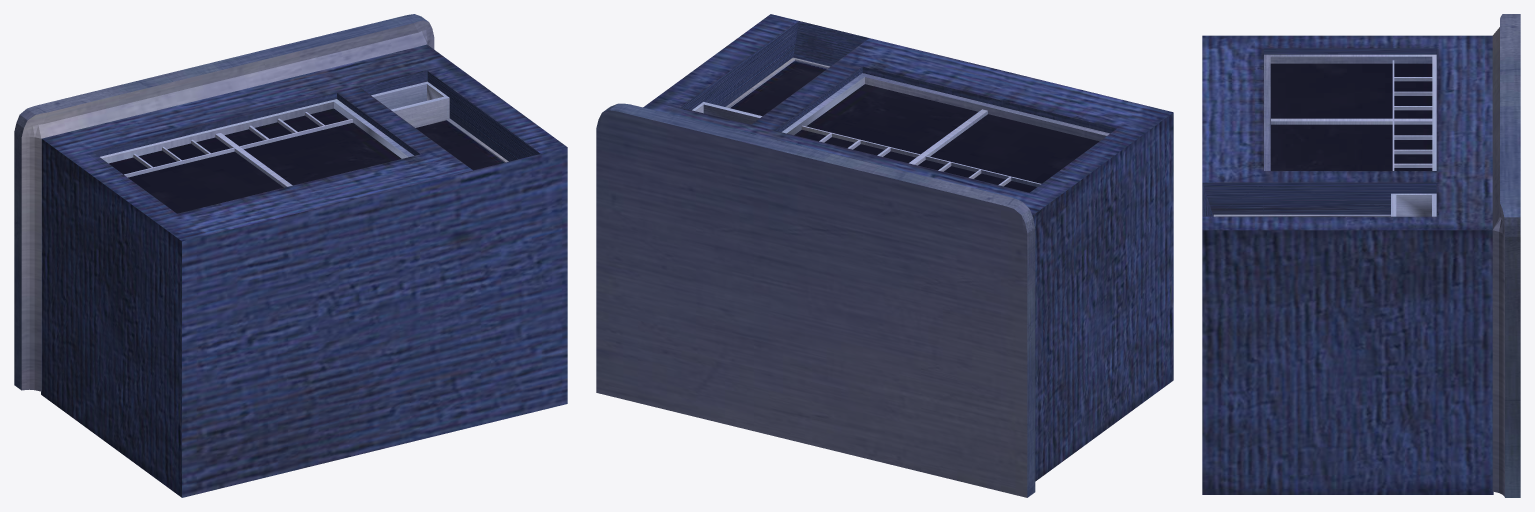
File: Building2.fbx
3 renders of one model, left to right at view 1: azimuth 30°, elevation 25°; view 2: azimuth 150°, elevation 25°; view 3: azimuth 270°, elevation 25°, orthographic. The views are drawn at different scales.
Parts seen in each view (by area): view 1: Main_Building, Roof, Trim, Door_frame, Detail; view 2: Roof, Main_Building, Trim, Detail, Door_frame; view 3: Main_Building, Roof, Trim, Detail, Door_frame.
Boxes of the visible parts, x1,y1,x2,y2 form: Main_Building: (41,44,567,497); Roof: (14,14,434,391); Trim: (100,99,413,163); Door_frame: (371,81,508,162); Detail: (124,112,352,187); Roof: (596,103,1035,497); Main_Building: (643,14,1173,481); Trim: (782,73,1109,141); Detail: (801,109,1040,186); Door_frame: (692,57,829,124); Main_Building: (1202,35,1493,494); Roof: (1492,14,1520,497); Trim: (1264,54,1436,170); Detail: (1271,60,1432,170); Door_frame: (1213,193,1436,216).
Bounding box in the file's own units: 304 × 196 × 197.
5 materials, 5 textured.
